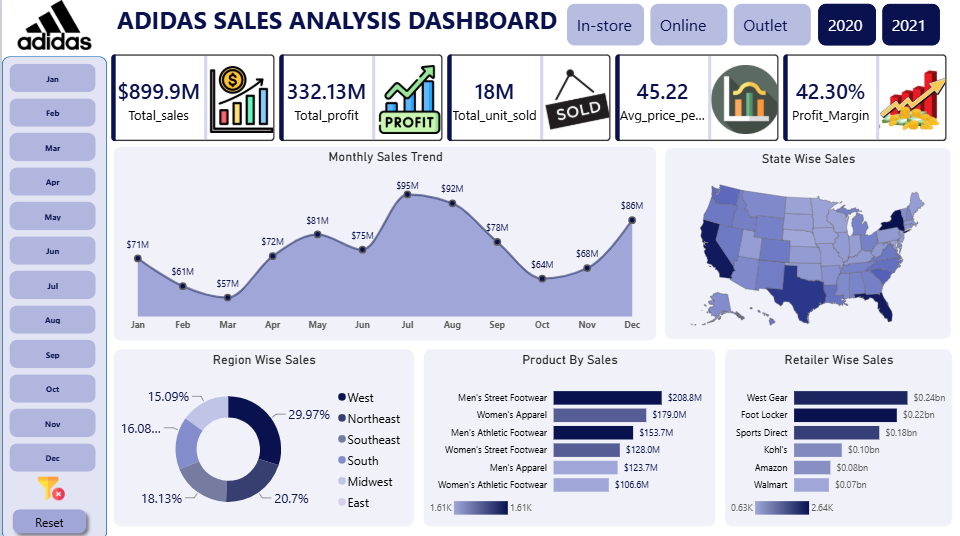

This screenshot's page, from the dashboard's own definition file:
{"tool":"powerbi","page":{"name":"Page 1","canvas":[1280,720],"ordinal":0},"visuals":[{"type":"cardVisual","fields":{"Data":["Data Sales Adidas.Total_sales","Data Sales Adidas.Total_profit","Data Sales Adidas.Total_unit_sold","Data Sales Adidas.Avg_price_per_unit","Data Sales Adidas.Profit_Margin"]},"box":[140,66.2,1126.2,128.8],"z":0},{"type":"image","box":[0,0,140,66.2],"z":1000},{"type":"textbox","box":[148.8,0,610,57.5],"z":2000},{"type":"shape","box":[0,75,140,645],"z":3000},{"type":"areaChart","title":"Monthly Sales Trend","fields":{"Y":["Data Sales Adidas.Total_sales"],"Category":["Data Sales Adidas.Month"]},"box":[148.8,195,725,260],"z":4000},{"type":"shapeMap","title":"State Wise Sales","fields":{"Category":["Data Sales Adidas.State"],"Value":["Data Sales Adidas.Total_sales"]},"box":[883.8,196.2,382.5,256.2],"z":5000},{"type":"donutChart","title":"Region Wise Sales","fields":{"Category":["Data Sales Adidas.Region"],"Y":["Data Sales Adidas.Total_sales"]},"box":[148.8,465,401.2,237.5],"z":6000},{"type":"clusteredBarChart","title":"Product By Sales","fields":{"Category":["Data Sales Adidas.Product"],"Y":["Data Sales Adidas.Total_sales"]},"box":[561.2,465,390,237.5],"z":7000},{"type":"clusteredBarChart","title":" Retailer Wise Sales","fields":{"Category":["Data Sales Adidas.Retailer"],"Y":["Data Sales Adidas.Total_sales"]},"box":[962.5,465,303.8,237.5],"z":8000},{"type":"advancedSlicerVisual","fields":{"Values":["Data Sales Adidas.Sales Method"]},"box":[747.5,0,336.2,66.2],"z":9000},{"type":"advancedSlicerVisual","fields":{"Values":["Data Sales Adidas.Invoice Date.Variation.Date Hierarchy.Year"]},"box":[1083.8,0,172.5,66.2],"z":10000},{"type":"advancedSlicerVisual","fields":{"Values":["Data Sales Adidas.Month"]},"box":[5,80,125,558.8],"z":11000},{"type":"image","box":[15,633.8,101.4,35.7],"z":12000},{"type":"actionButton","box":[5,670,116.2,50],"z":13000}]}

Visuals, with their boxes in screenshot pixels (x1, y1, x2, y2), scaled from the page's 1280x720 canvas onto the 960x536 screenshot:
cardVisual - Data Sales Adidas.Total_sales x Data Sales Adidas.Total_profit: [x1=105, y1=49, x2=950, y2=145]
image: [x1=0, y1=0, x2=105, y2=49]
textbox: [x1=112, y1=0, x2=569, y2=43]
shape: [x1=0, y1=56, x2=105, y2=535]
"Monthly Sales Trend" areaChart: [x1=112, y1=145, x2=655, y2=339]
"State Wise Sales" shapeMap: [x1=663, y1=146, x2=950, y2=337]
"Region Wise Sales" donutChart: [x1=112, y1=346, x2=412, y2=523]
"Product By Sales" clusteredBarChart: [x1=421, y1=346, x2=713, y2=523]
" Retailer Wise Sales" clusteredBarChart: [x1=722, y1=346, x2=950, y2=523]
advancedSlicerVisual - Data Sales Adidas.Sales Method: [x1=561, y1=0, x2=813, y2=49]
advancedSlicerVisual - Data Sales Adidas.Invoice Date.Variation.Date Hierarchy.Year: [x1=813, y1=0, x2=942, y2=49]
advancedSlicerVisual - Data Sales Adidas.Month: [x1=4, y1=60, x2=98, y2=476]
image: [x1=11, y1=472, x2=87, y2=498]
actionButton: [x1=4, y1=499, x2=91, y2=535]
